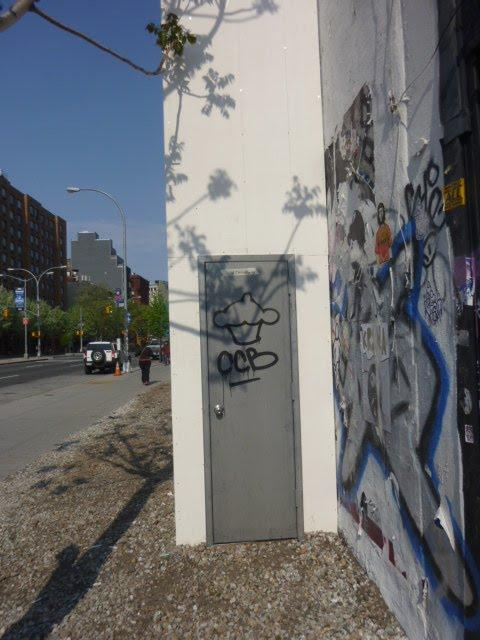graffiti: (321, 164, 473, 632), (210, 294, 283, 394)
